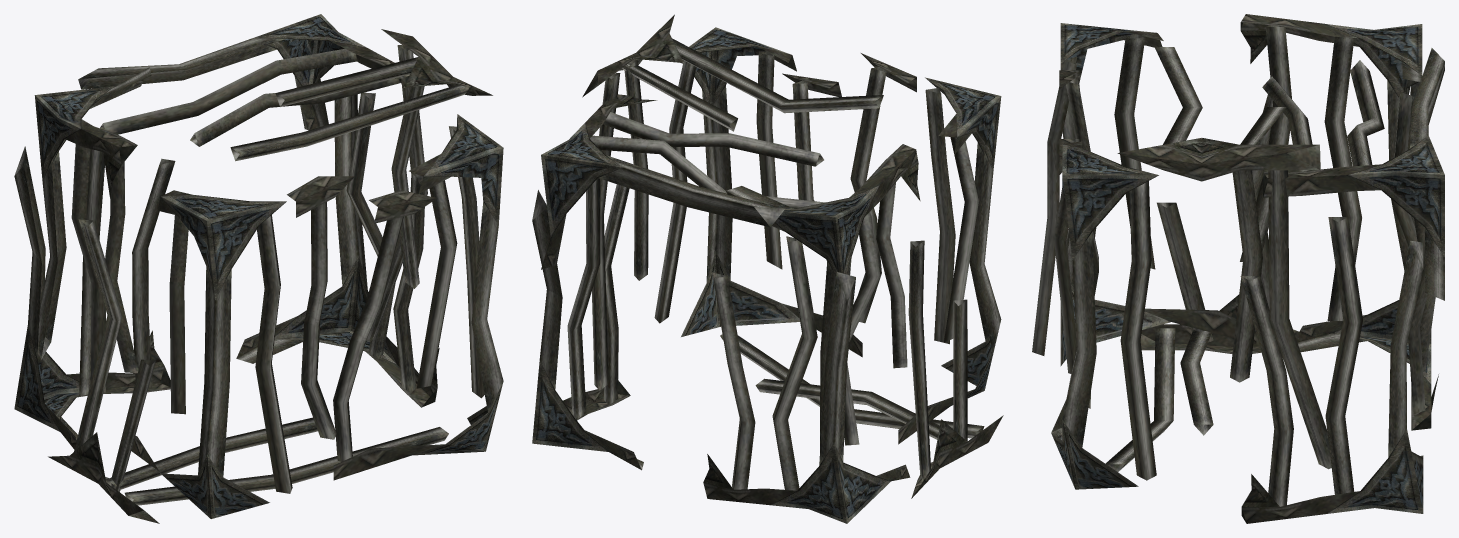
Rendered from CagePieces.gltf.
3 renders of one model, left to right at view 1: azimuth 30°, elevation 25°; view 2: azimuth 150°, elevation 25°; view 3: azimuth 270°, elevation 25°, orthographic. The views are drawn at different scales.
Visible parts, largest first — view 1: CagePiece2, CagePiece8, CagePiece1, CagePiece5, CagePiece7, CagePiece6, CagePiece3, CagePiece9, CagePiece4, CagePiece10; view 2: CagePiece5, CagePiece7, CagePiece8, CagePiece2, CagePiece6, CagePiece1, CagePiece9, CagePiece3, CagePiece4, CagePiece10; view 3: CagePiece8, CagePiece6, CagePiece9, CagePiece7, CagePiece1, CagePiece2, CagePiece3, CagePiece5, CagePiece4, CagePiece10.
Boxes of the visible parts, x1,y1,x2,y2 form: CagePiece2: (131, 190, 292, 518); CagePiece8: (333, 114, 503, 480); CagePiece1: (34, 67, 151, 392); CagePiece5: (14, 146, 175, 449); CagePiece7: (78, 14, 409, 146); CagePiece6: (236, 92, 439, 407); CagePiece3: (48, 219, 448, 523); CagePiece9: (230, 29, 492, 341); CagePiece4: (287, 176, 354, 439); CagePiece10: (333, 190, 437, 461); CagePiece5: (703, 236, 910, 523); CagePiece7: (541, 94, 825, 269); CagePiece8: (654, 27, 862, 357); CagePiece2: (898, 77, 1001, 444); CagePiece6: (532, 178, 643, 470); CagePiece1: (726, 144, 920, 449); CagePiece9: (582, 14, 883, 390); CagePiece3: (720, 240, 1003, 498); CagePiece4: (850, 53, 916, 323); CagePiece10: (782, 73, 841, 261); CagePiece8: (1051, 141, 1158, 489); CagePiece6: (1240, 217, 1423, 523); CagePiece9: (1117, 47, 1331, 469); CagePiece7: (1262, 48, 1444, 300); CagePiece1: (1240, 14, 1422, 320); CagePiece2: (1032, 23, 1256, 366); CagePiece3: (1105, 95, 1298, 471); CagePiece5: (1296, 82, 1438, 430); CagePiece4: (1059, 70, 1096, 237); CagePiece10: (1059, 139, 1098, 408).
Size of the model in its own units: 2.38 by 2.3 by 2.27.
1 material, 1 textured.
